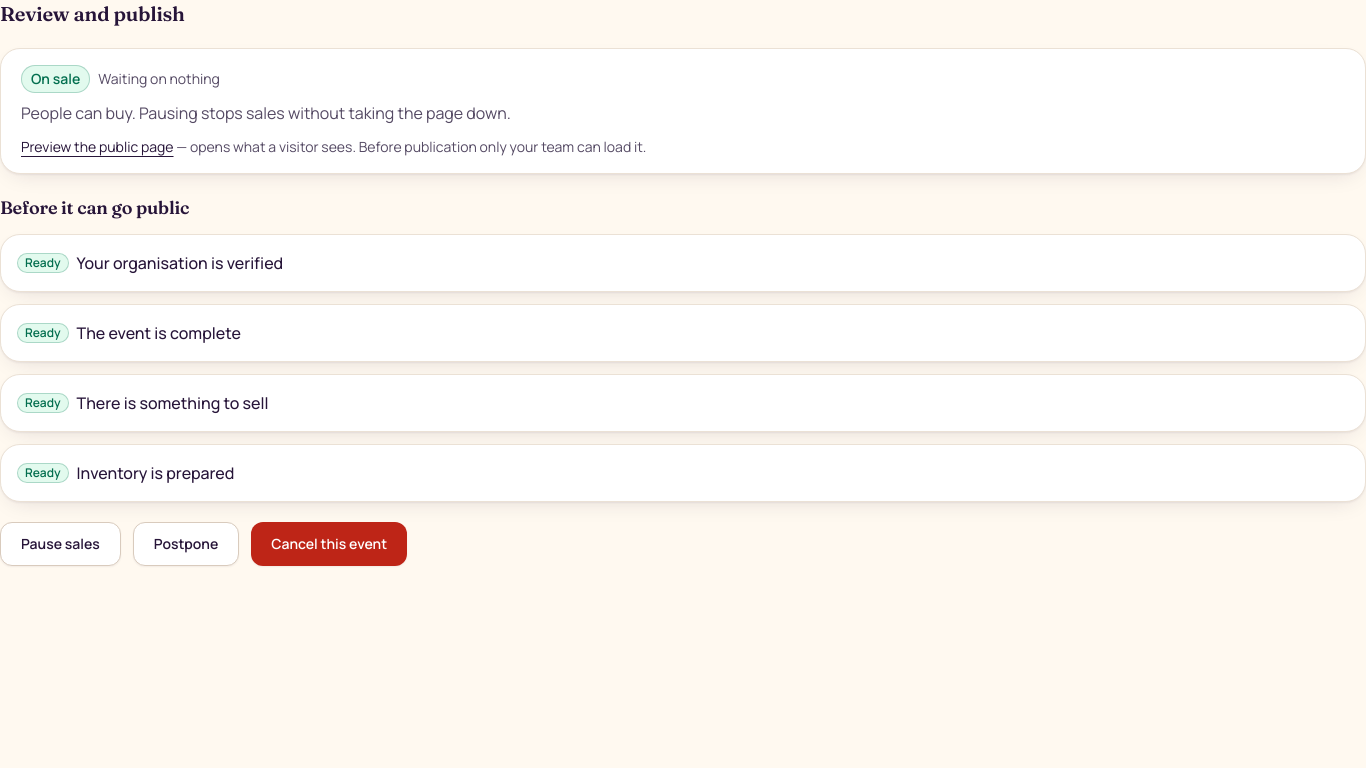
Scenario: cancelling an event › asks for a reason code and a note, and will not send without the note
Click the button "Cancel this event".
click(329, 544)  # box [251,522,407,566]
(page scrolled)
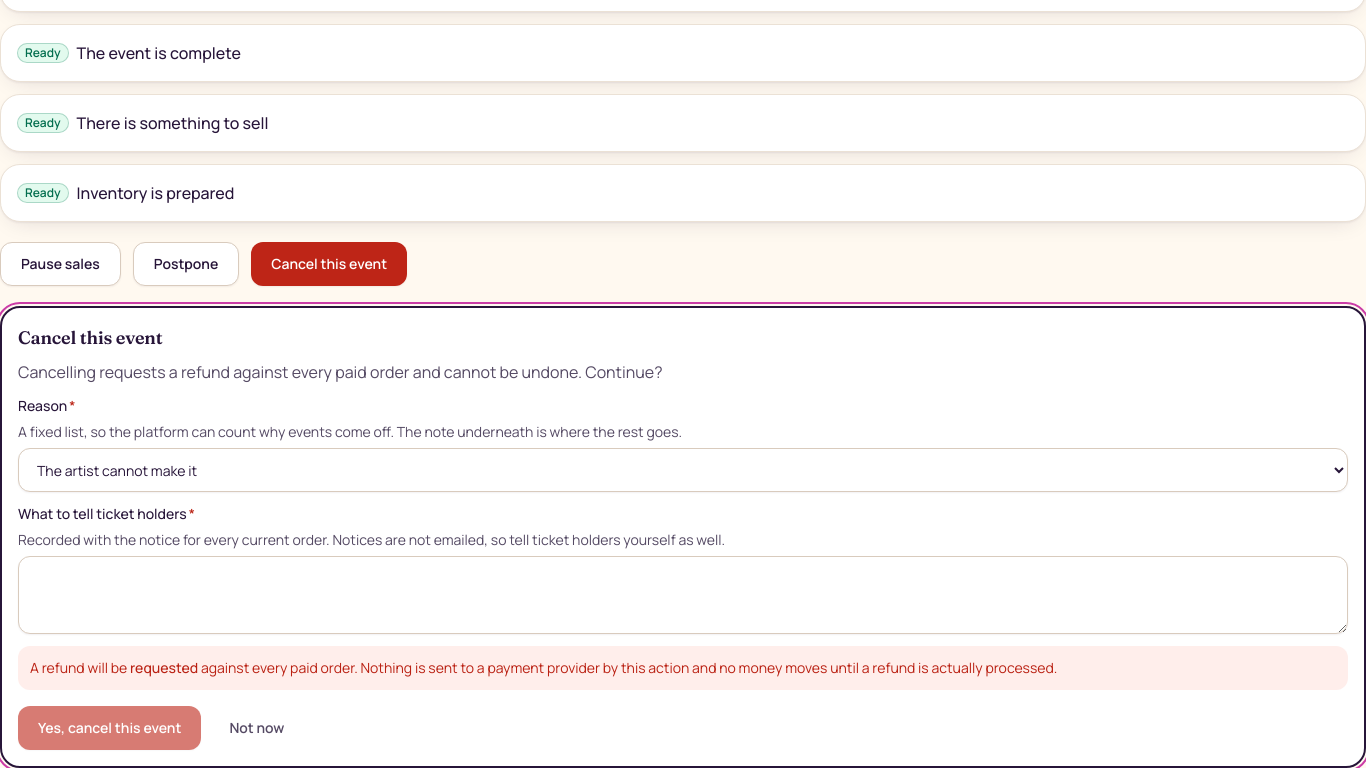
Now the dropdown labelled "Reason*" is shown, box [18,448,1348,492]
Now the button "Yes, cancel this event" is disabled, box [18,706,201,750]
Type "The artist is unwell." into the text box labelled "What to tell ticket holders*".
click(683, 595); type("The artist is unwell.")  # box [18,556,1348,634]
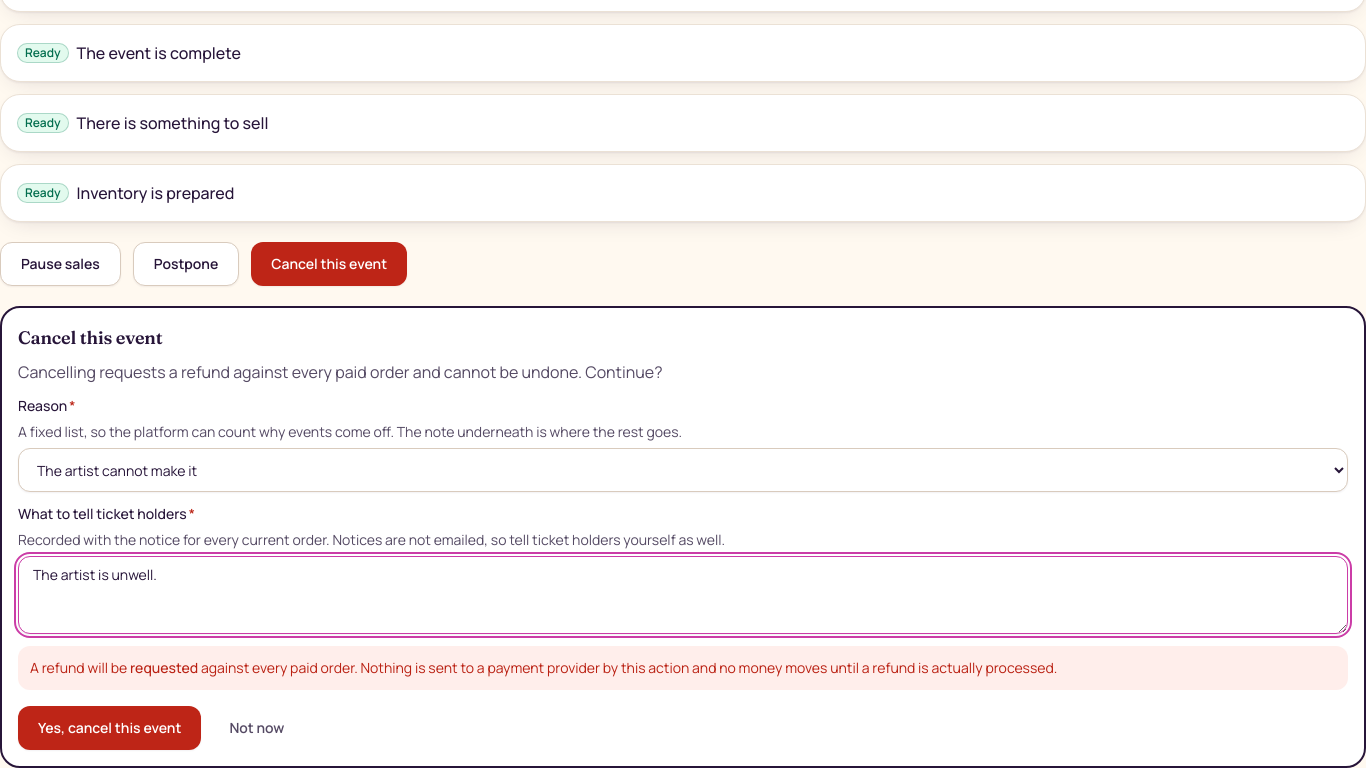
Now the button "Yes, cancel this event" is enabled, box [18,706,201,750]
